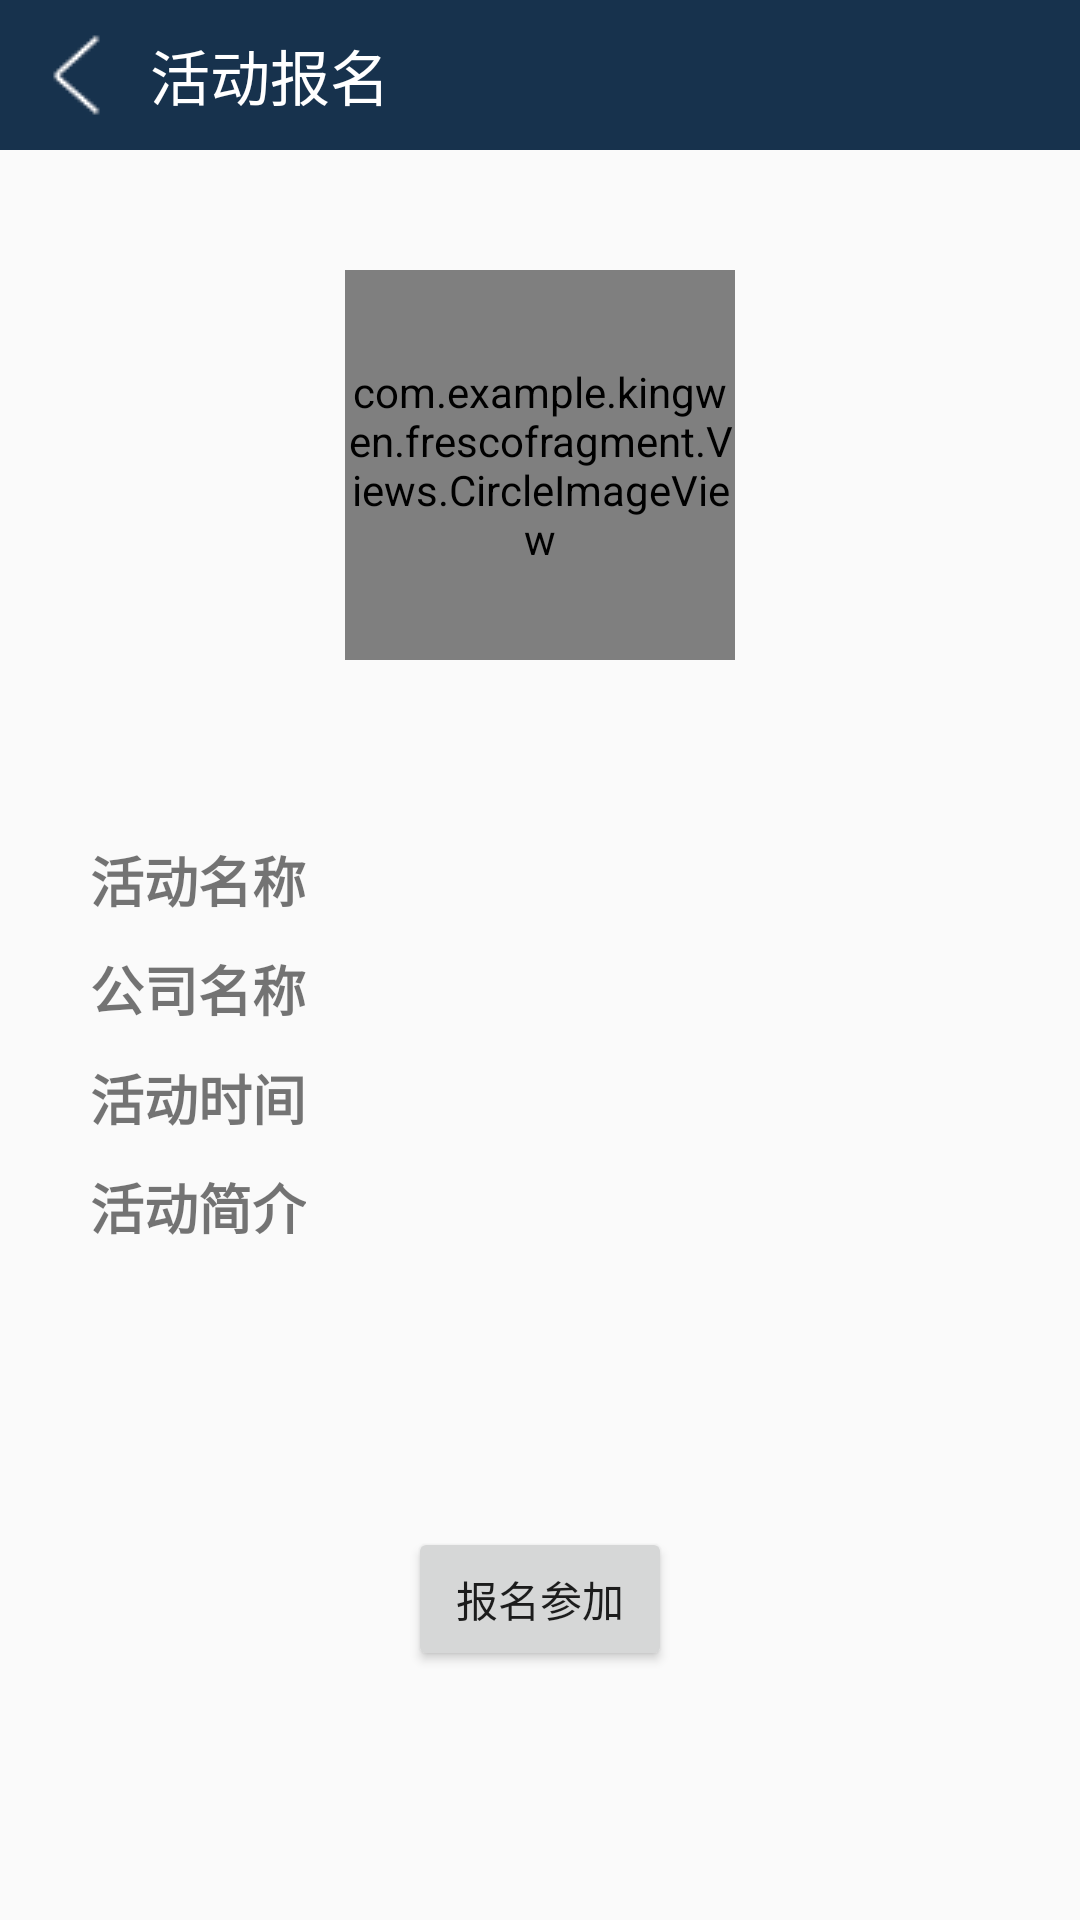

Named icons in this screenshot (1080 × 1920) and their bounding boxes, (x1, y1, x2, y2):
return: (53, 35, 100, 115)
